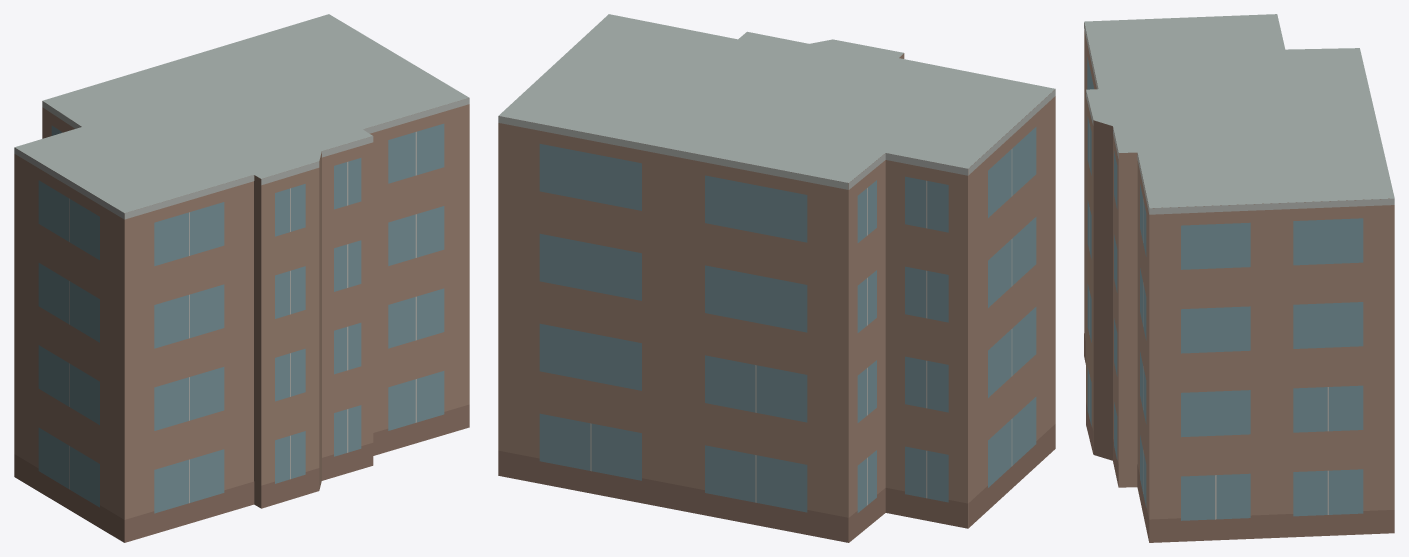
File: survey-upis-33024743.glb
3 views of the same model, side by side, from view 1: azimuth 30°, elevation 25°; view 2: azimuth 150°, elevation 25°; view 3: azimuth 270°, elevation 25° (orthographic). The views are drawn at different scales.
Visible parts, largest first — view 1: survey-upis-33024743.tmp; view 2: survey-upis-33024743.tmp; view 3: survey-upis-33024743.tmp.
Boxes of the visible parts, bbox=[...] form: survey-upis-33024743.tmp: bbox=[14, 14, 469, 542]; survey-upis-33024743.tmp: bbox=[498, 14, 1055, 542]; survey-upis-33024743.tmp: bbox=[1084, 14, 1394, 542].
Bounding box in the file's own units: 15.7 × 12.6 × 10.61.
